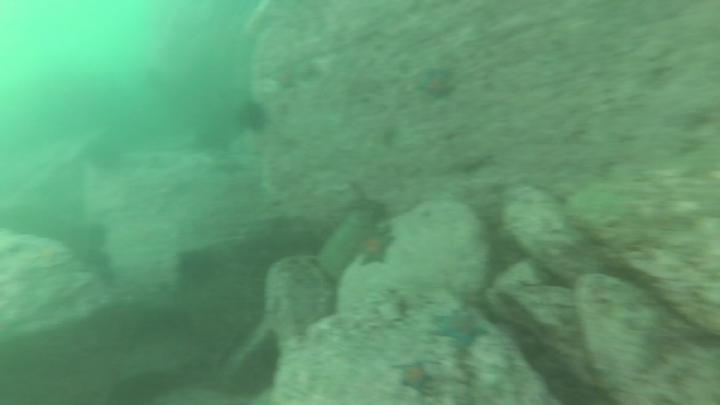echinus: (172, 249, 221, 292), (86, 141, 127, 173), (237, 100, 271, 135), (81, 219, 114, 252), (193, 129, 231, 155)
starfish: (429, 310, 494, 352), (416, 63, 459, 104), (353, 231, 397, 269), (393, 359, 437, 397), (26, 241, 73, 267), (266, 66, 301, 94)
